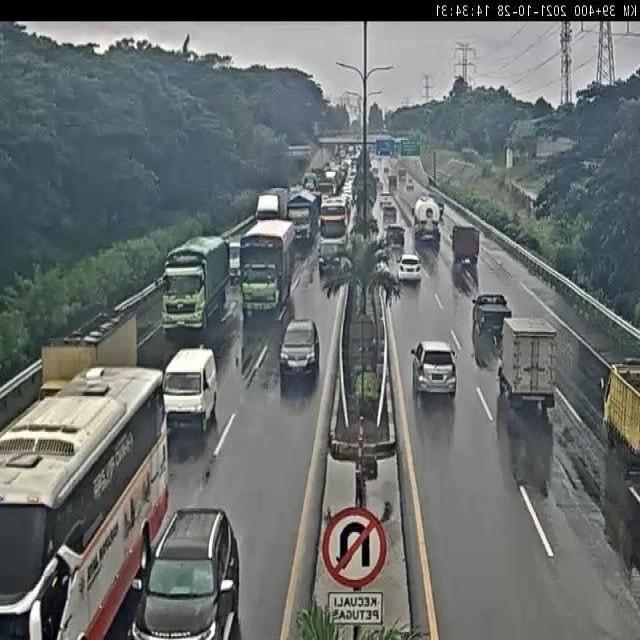Bus: (0, 360, 170, 640), (318, 194, 350, 248)
Car: (134, 502, 246, 640), (410, 339, 460, 398), (280, 320, 320, 378), (395, 253, 423, 286), (384, 222, 407, 246), (381, 203, 398, 223), (380, 189, 392, 207)
Truck: (35, 303, 142, 403), (159, 235, 231, 334), (497, 313, 558, 410), (240, 218, 298, 316), (600, 356, 640, 478), (287, 188, 318, 243), (470, 293, 511, 333), (413, 194, 441, 247), (253, 188, 287, 230), (449, 223, 482, 264), (226, 235, 245, 282), (316, 179, 334, 201), (302, 171, 318, 194), (398, 168, 407, 182)
Van: (163, 346, 220, 433)
